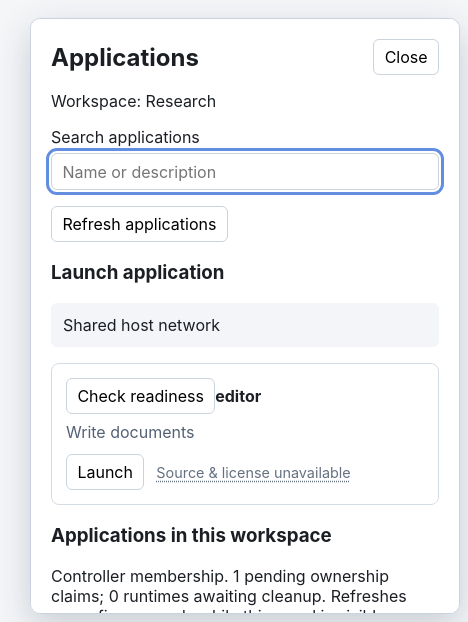
retries a lost launch reply with the same action identity
Click the button with aria-label "Launch editor": (105, 472) [66,454,144,490]
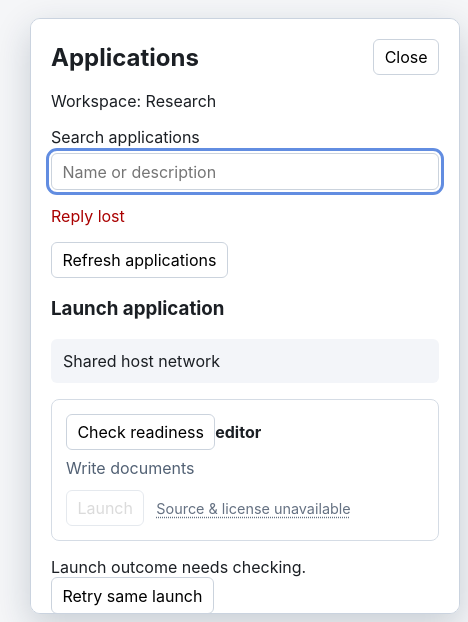
Check: the text "Reply lost" is shown, box [51,206,125,226]
Check: the button "Retry same launch" is enabled
Click the button "Retry same launch": (132, 596) [51,577,214,614]
(page scrolled)
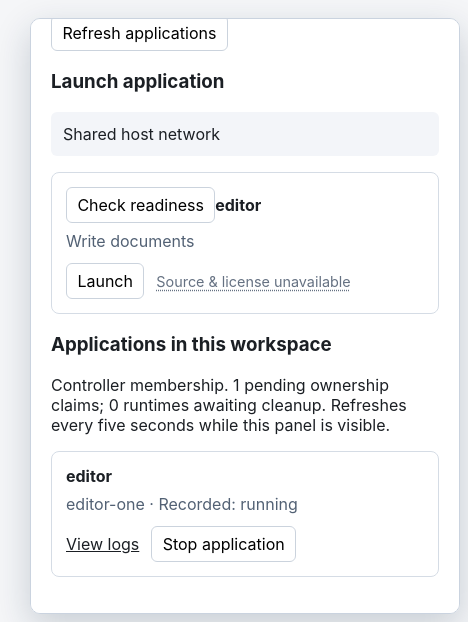
Check: the text "1 pending ownership claims" is shown, box [51,375,389,415]
